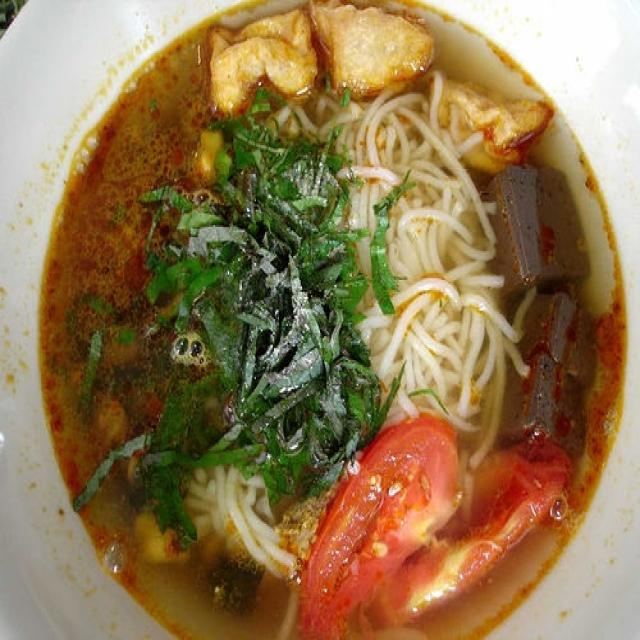面条主食: (12, 10, 634, 633)
